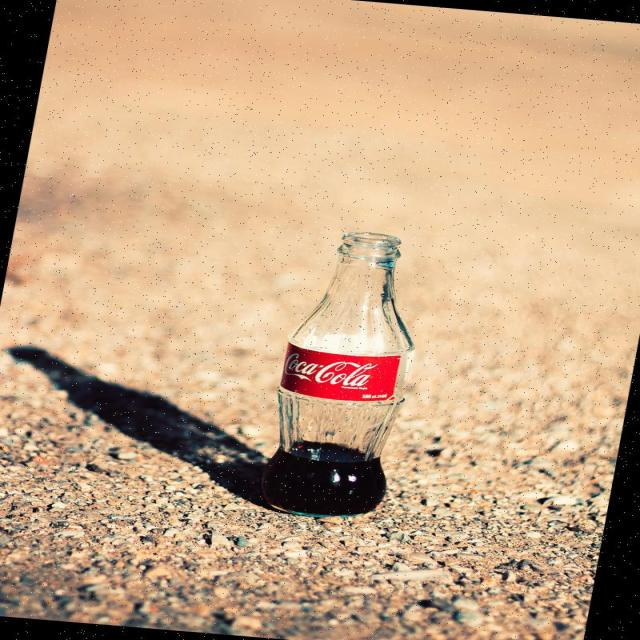coca-cola: (248, 223, 446, 520)
